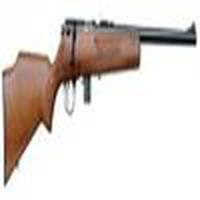gun: (4, 16, 199, 181)
